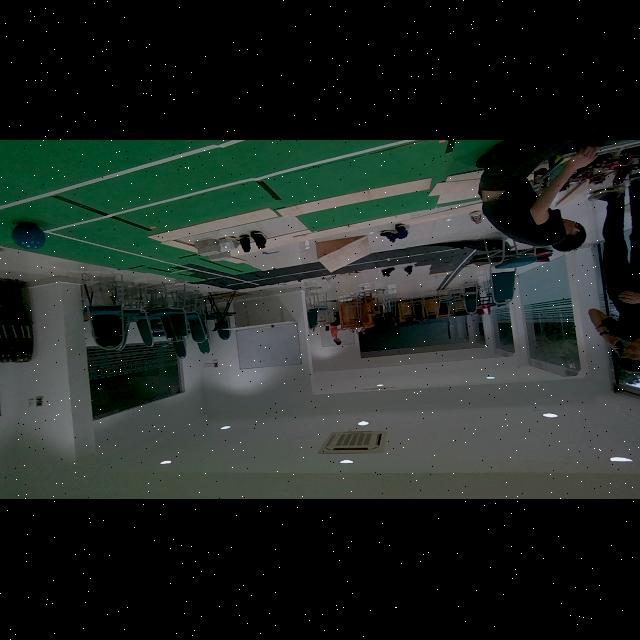B: (12, 223, 46, 250)
